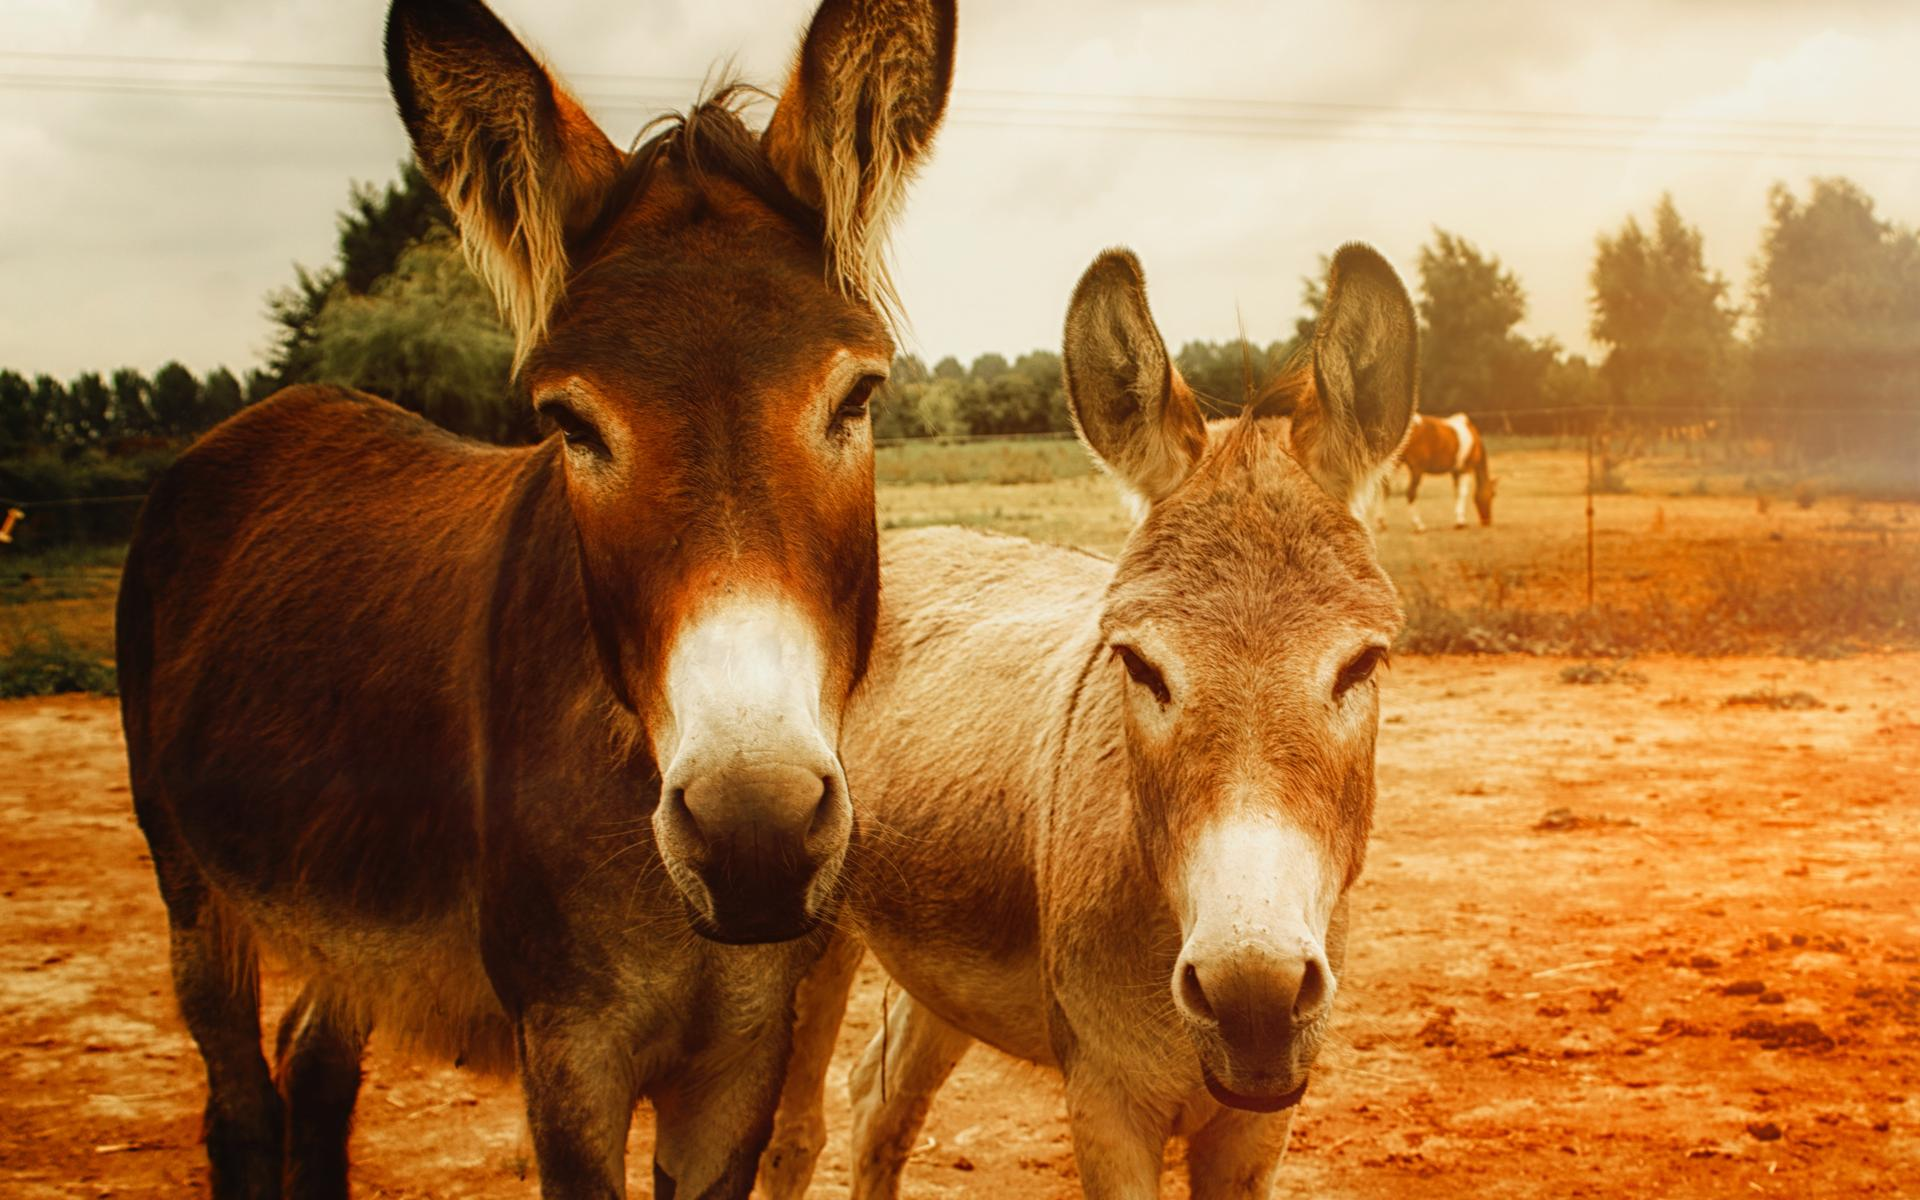background: (119, 1, 952, 1182)
